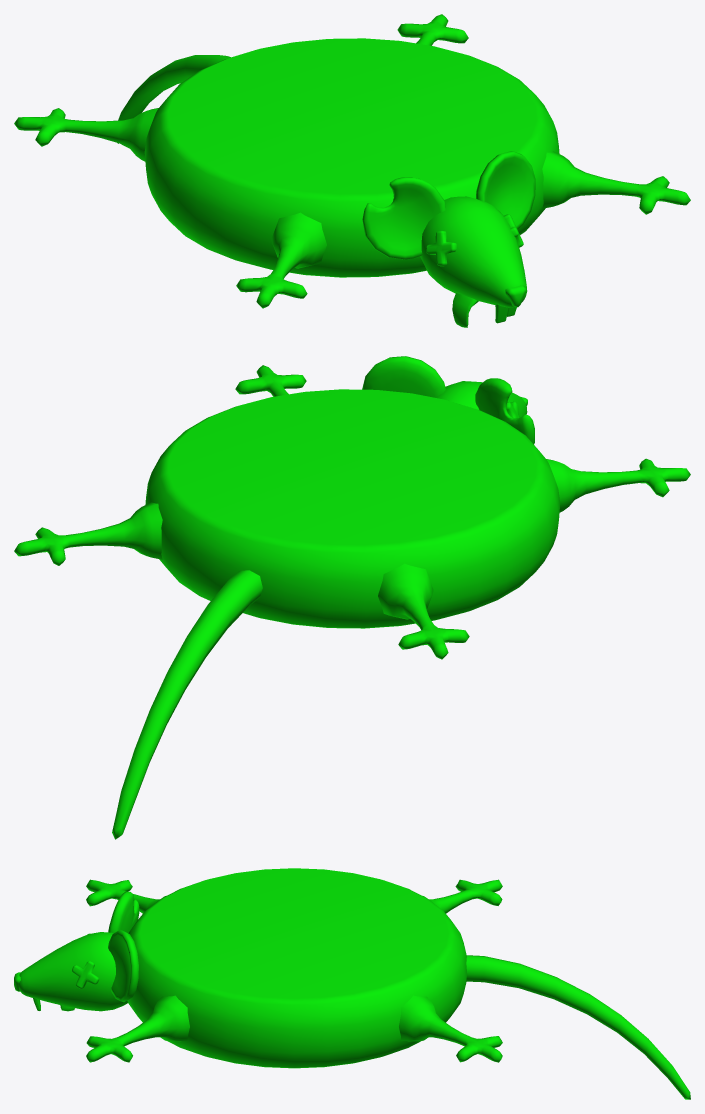
The model's file is SM_CakeBad_Rat01.fbx.
3 views of the same model, one above another, from view 1: azimuth 30°, elevation 25°; view 2: azimuth 150°, elevation 25°; view 3: azimuth 270°, elevation 25° (orthographic). The views are drawn at different scales.
Parts seen in each view (by area): view 1: SM_CakeBad_Rat; view 2: SM_CakeBad_Rat; view 3: SM_CakeBad_Rat.
Boxes of the visible parts, bbox=[...] form: SM_CakeBad_Rat: bbox=[14, 14, 690, 327]; SM_CakeBad_Rat: bbox=[14, 356, 690, 839]; SM_CakeBad_Rat: bbox=[14, 868, 690, 1099].
Size of the model in its own units: 4.04 by 2 by 6.56.
